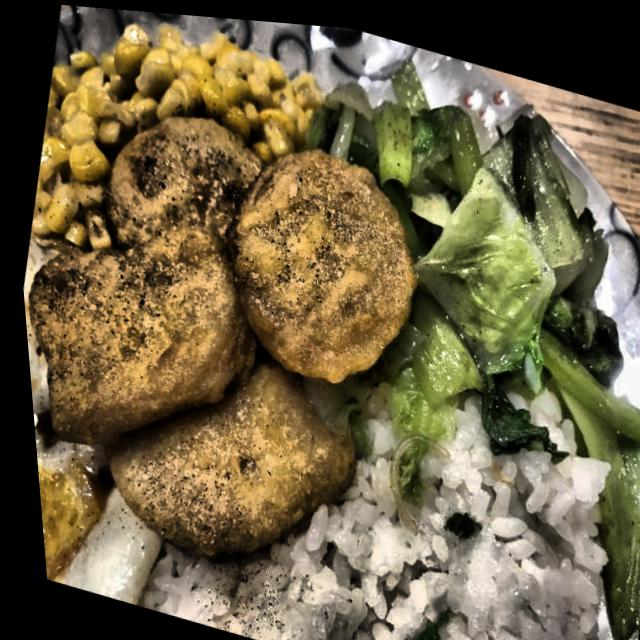Food: (5, 74, 449, 602), (259, 496, 594, 640)
